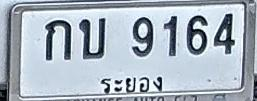1: (163, 15, 177, 57)
4: (214, 13, 234, 54)
6: (187, 15, 208, 54)
9: (132, 16, 153, 57)
A01: (44, 19, 72, 61)
A26: (78, 17, 106, 59)
RYG: (93, 70, 168, 96)
